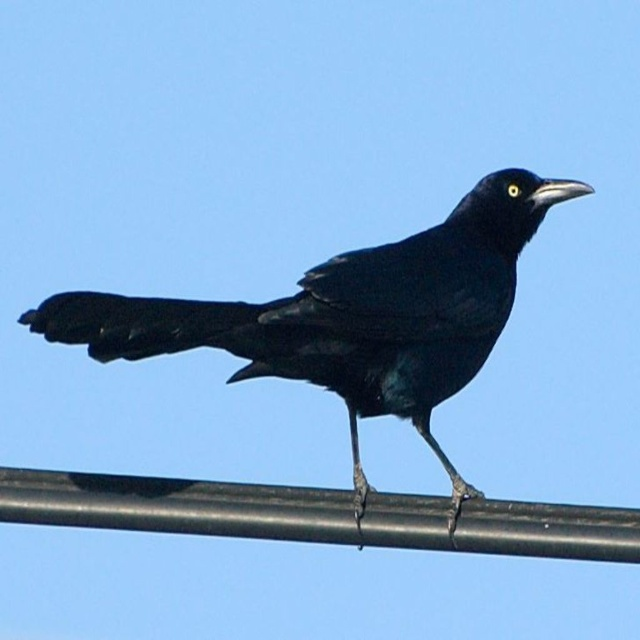Raven: (18, 166, 595, 551)
